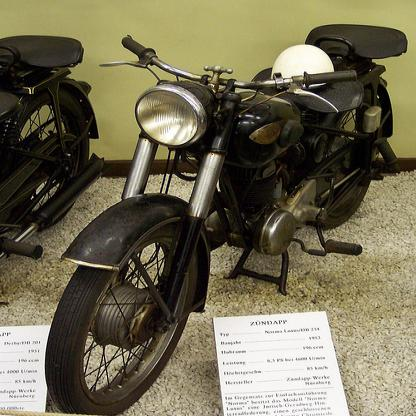motorbike: (44, 24, 407, 415), (0, 37, 107, 260)
